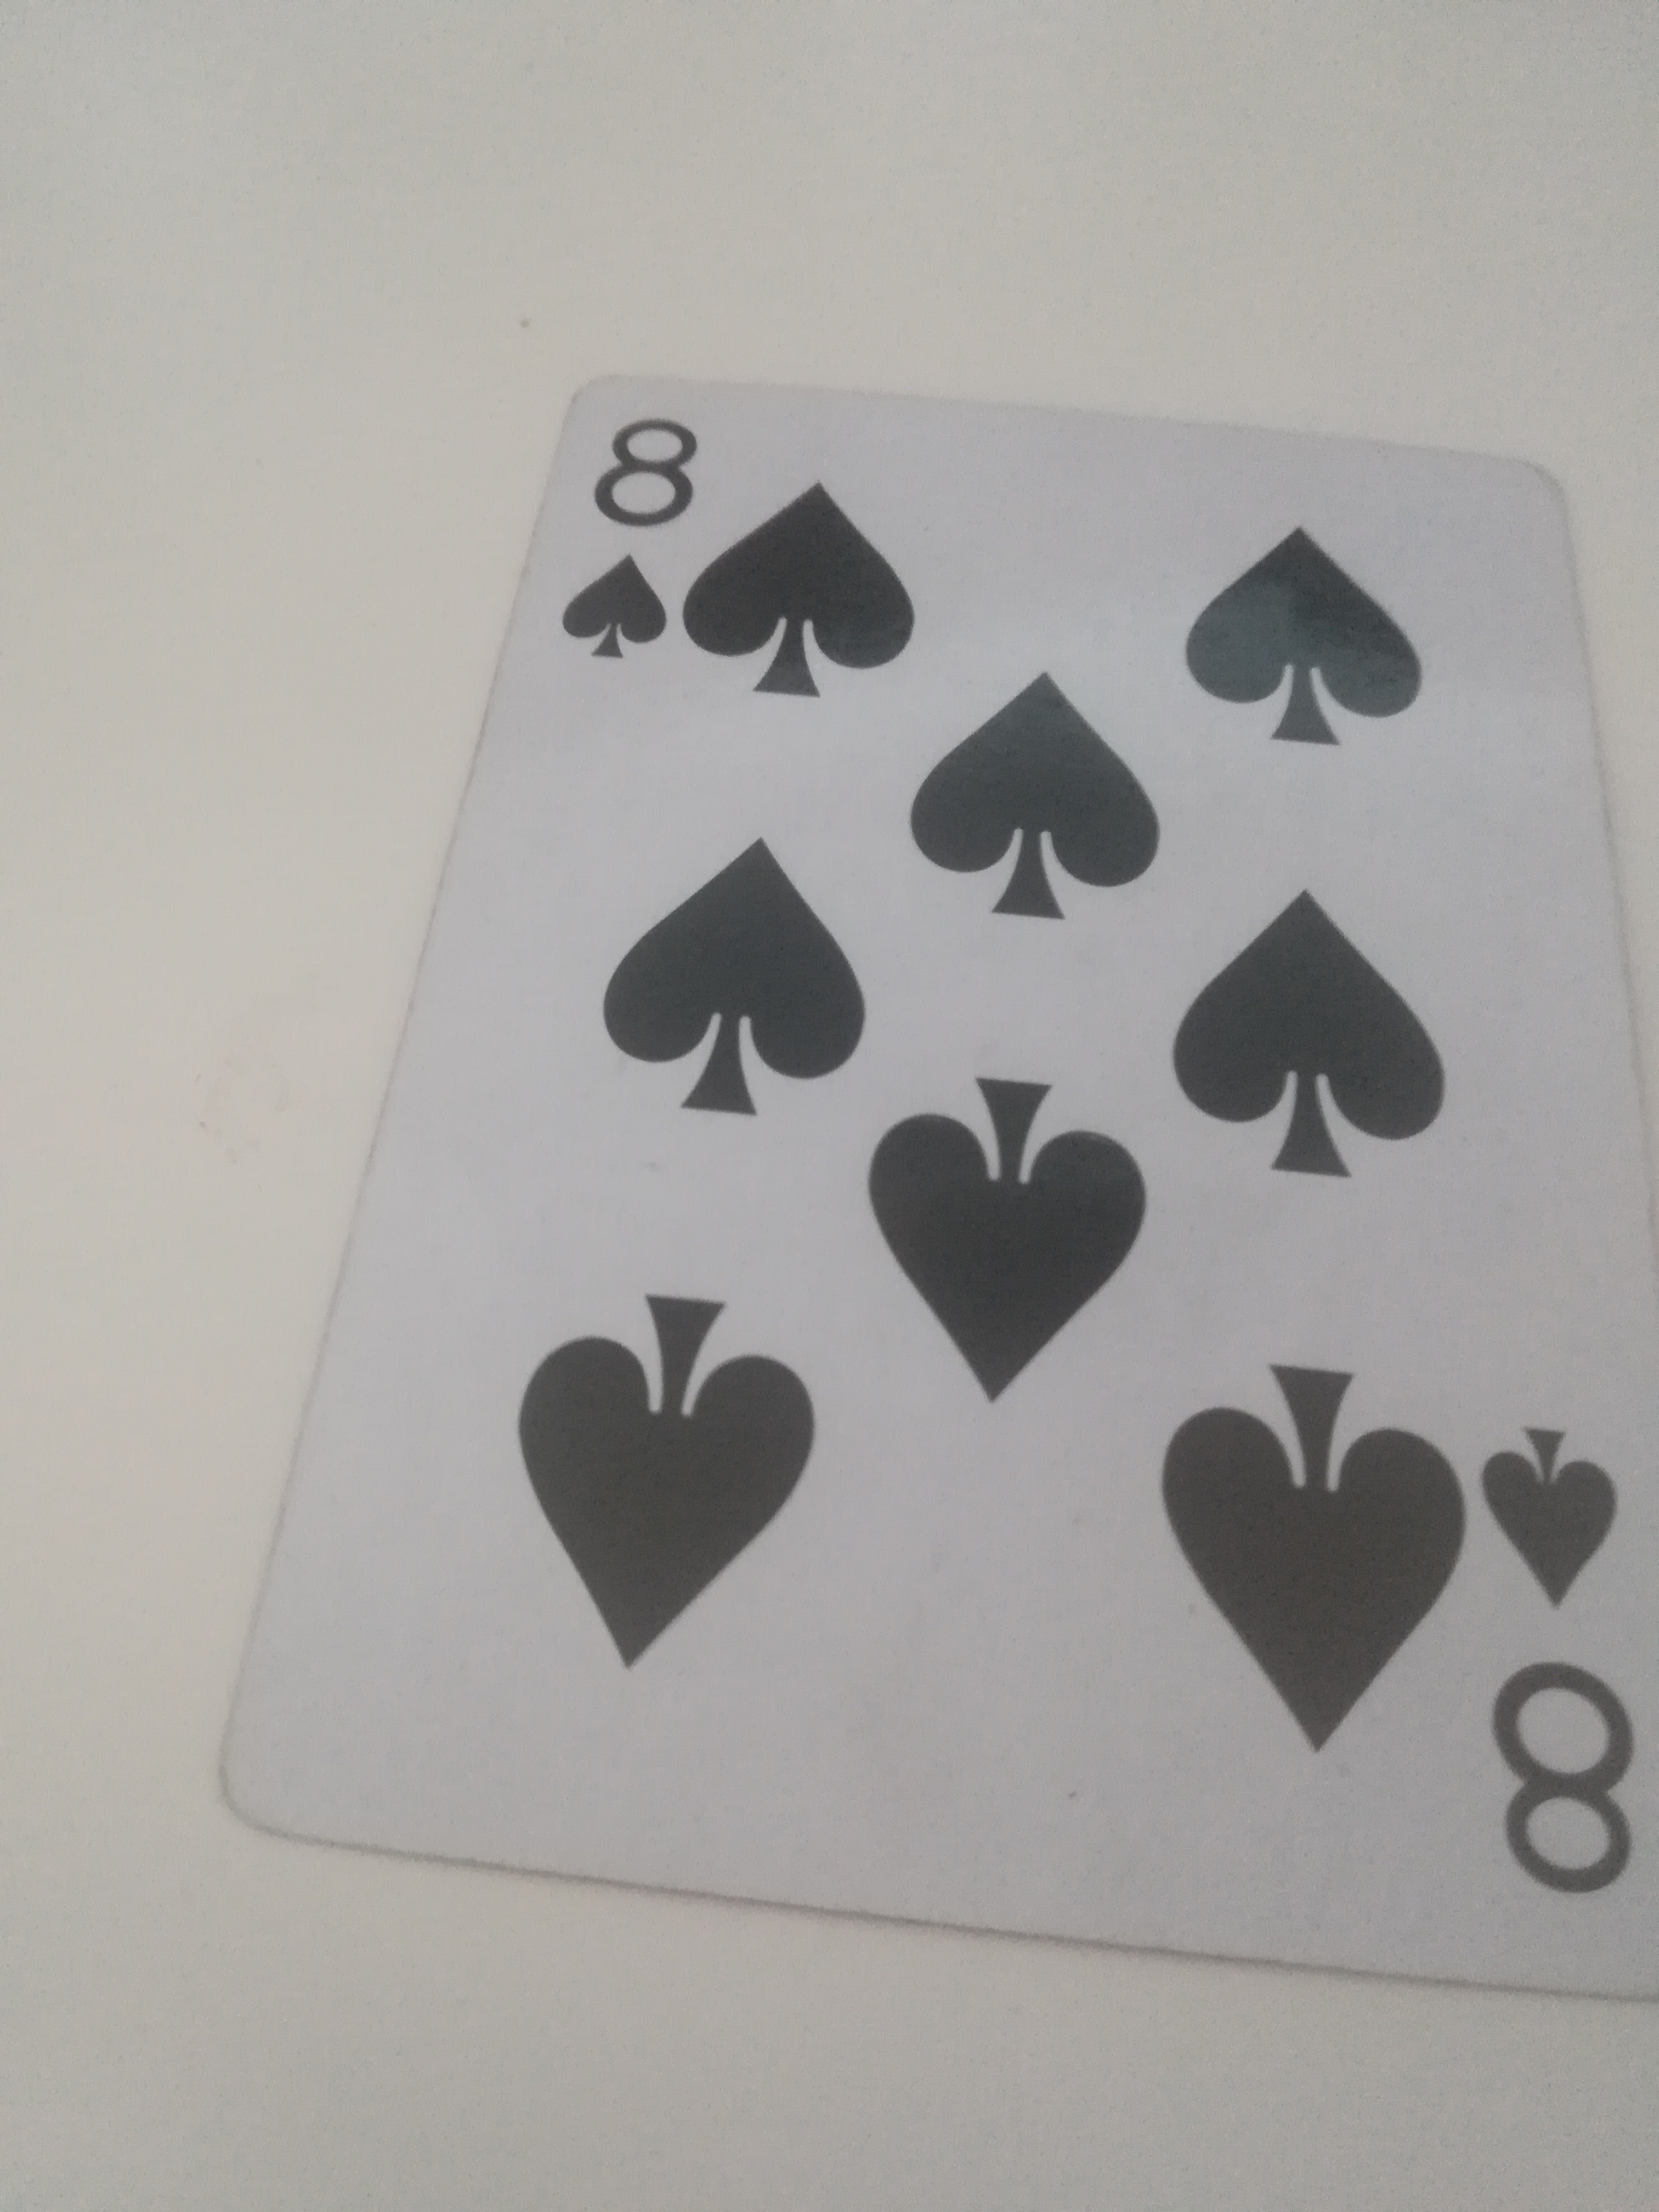8S: (211, 392, 1659, 2001)
